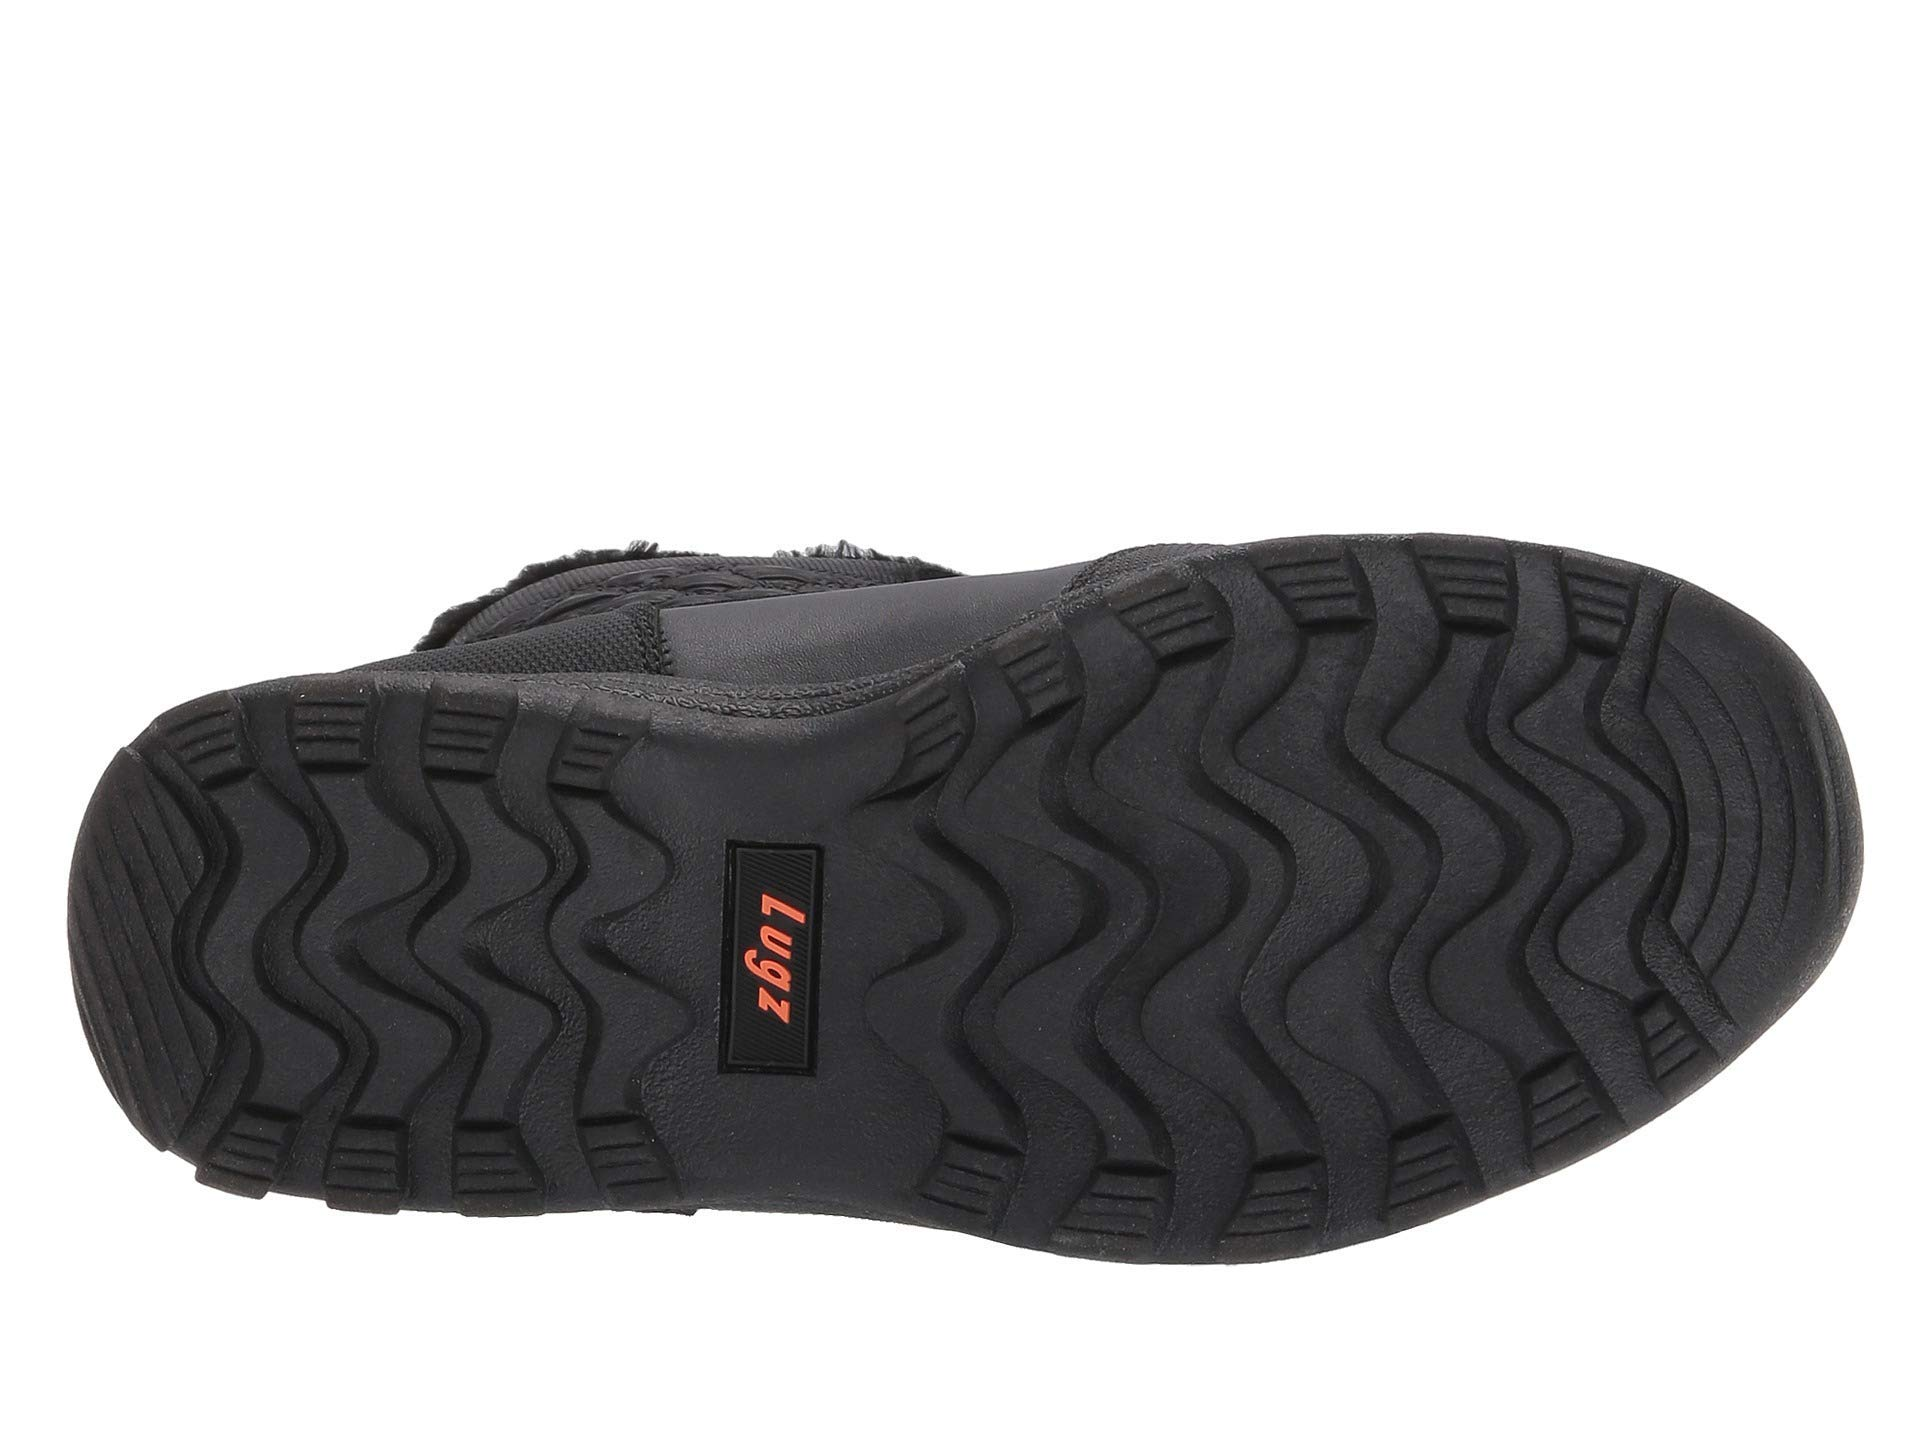line: (1654, 666, 1795, 917), (76, 811, 194, 1066)
quad: (677, 808, 865, 1137), (225, 1091, 685, 1219), (934, 1125, 1380, 1254), (1125, 554, 1648, 646), (181, 690, 547, 781), (996, 638, 1085, 728)
text: (677, 808, 865, 1137)
